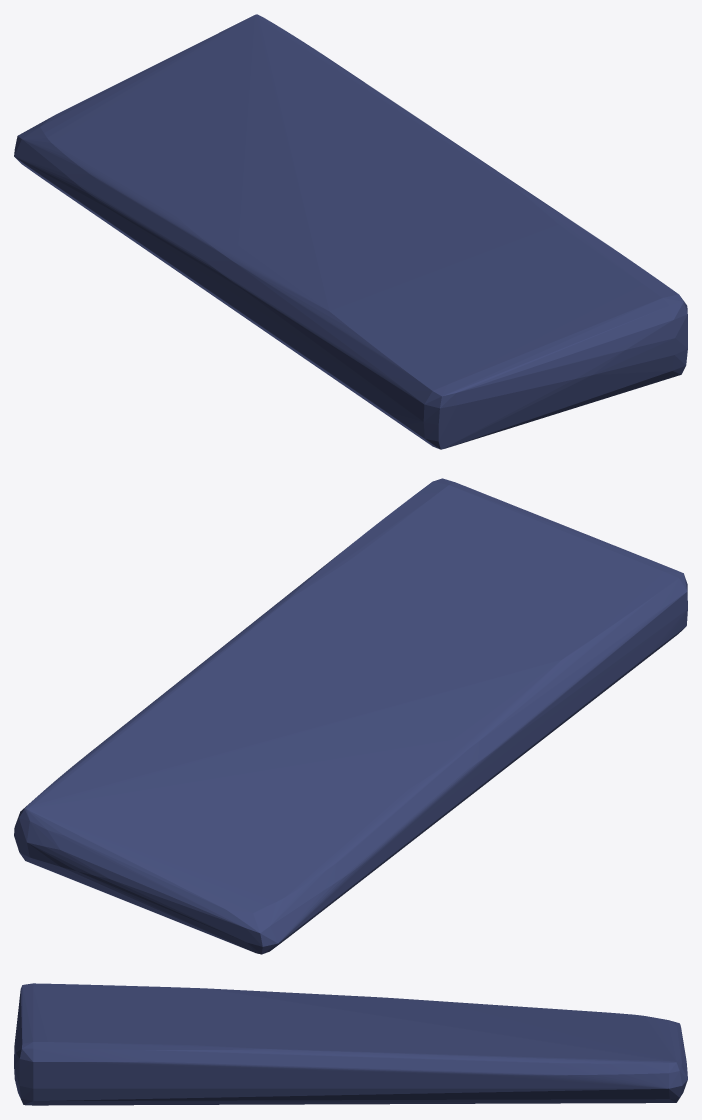
File: left-shoulder-yaw-0_part_16.obj
The picture shows the model from 3 angles, top to bottom: view 1: azimuth 30°, elevation 25°; view 2: azimuth 150°, elevation 25°; view 3: azimuth 270°, elevation 25°; orthographic projection. The views are drawn at different scales.
Bounding box in the file's own units: 0.0199 × 0.00793 × 0.0566.
